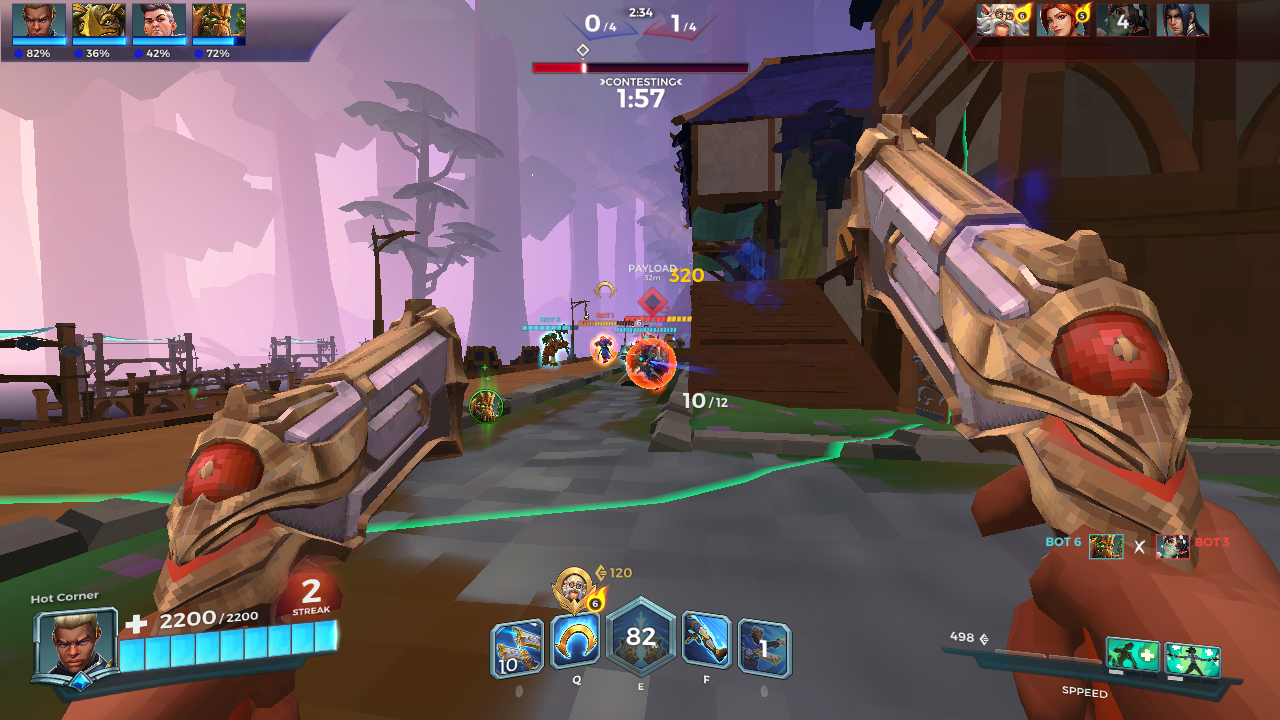model: (637, 335, 666, 388), (598, 331, 616, 365)
